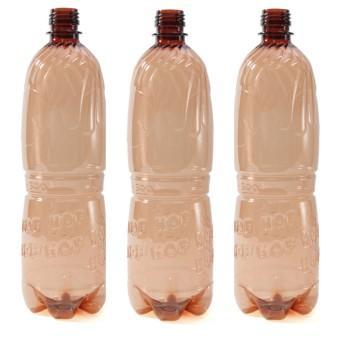bottle: (126, 9, 214, 322), (19, 10, 107, 318), (229, 10, 316, 320)
